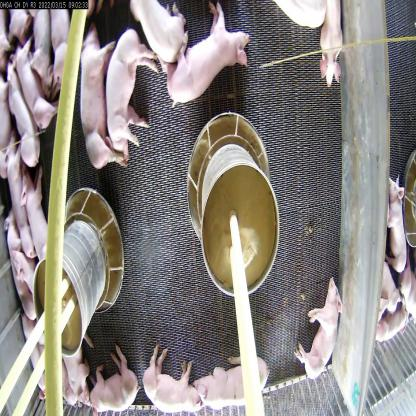Pig: (162, 2, 256, 115), (102, 26, 168, 174), (73, 27, 127, 185), (183, 346, 266, 416), (292, 274, 342, 383), (8, 39, 64, 134), (125, 2, 196, 76), (0, 66, 44, 176), (0, 210, 39, 334), (137, 342, 202, 416), (0, 128, 36, 261), (86, 342, 146, 416), (20, 164, 58, 268), (45, 4, 87, 97), (16, 304, 50, 416), (384, 165, 410, 284), (373, 298, 416, 365), (318, 0, 347, 95), (373, 250, 405, 335), (29, 8, 56, 89), (64, 335, 93, 408), (49, 346, 77, 415)
